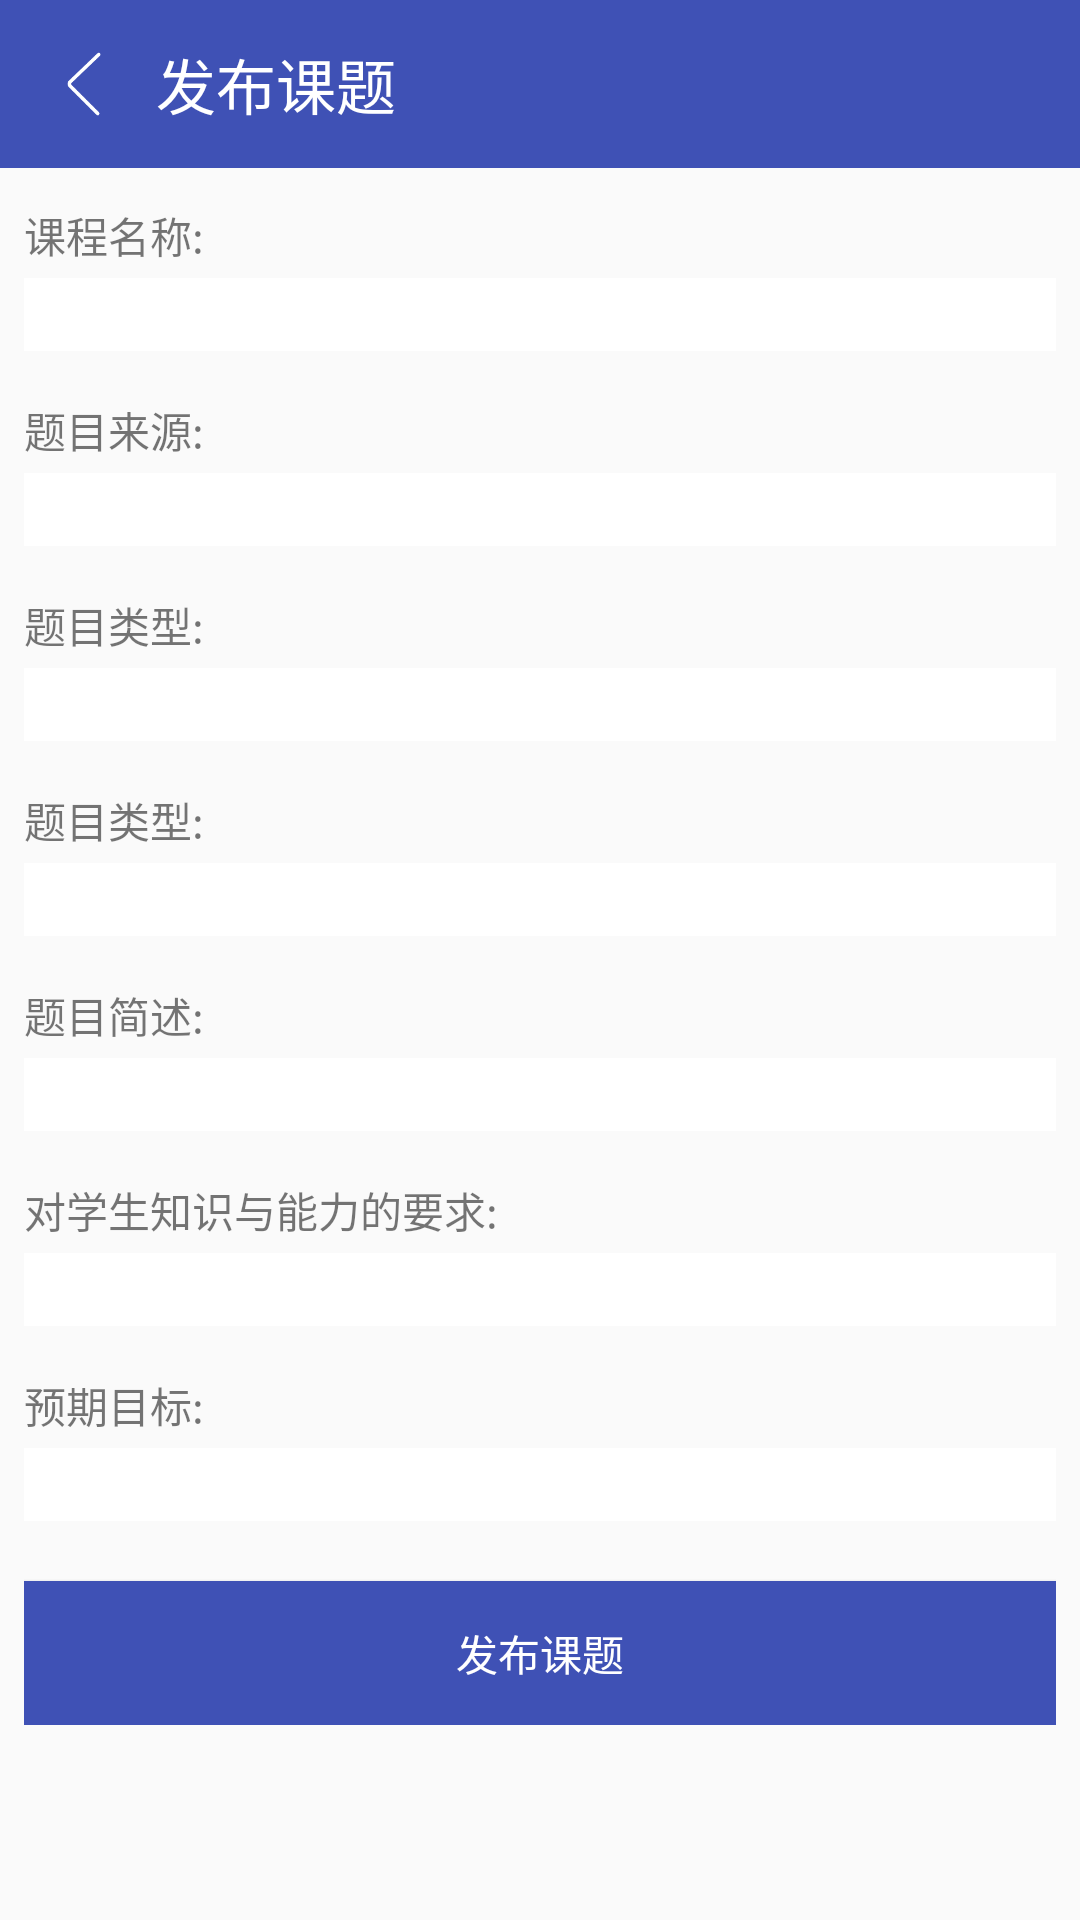

Where to tap for icons on this 1080*1920 app screen, as [x,y]:
arrowleft: [84,84]
